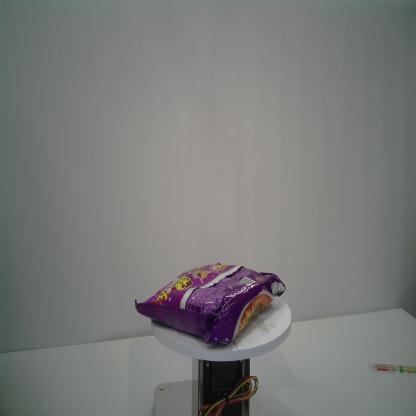Instant Noodles: (134, 262, 286, 346)
